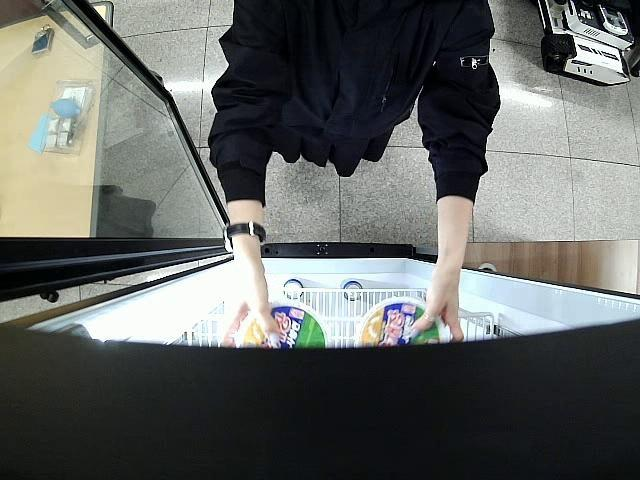09_yukGaeJang: (354, 294, 452, 345), (238, 298, 332, 349)
